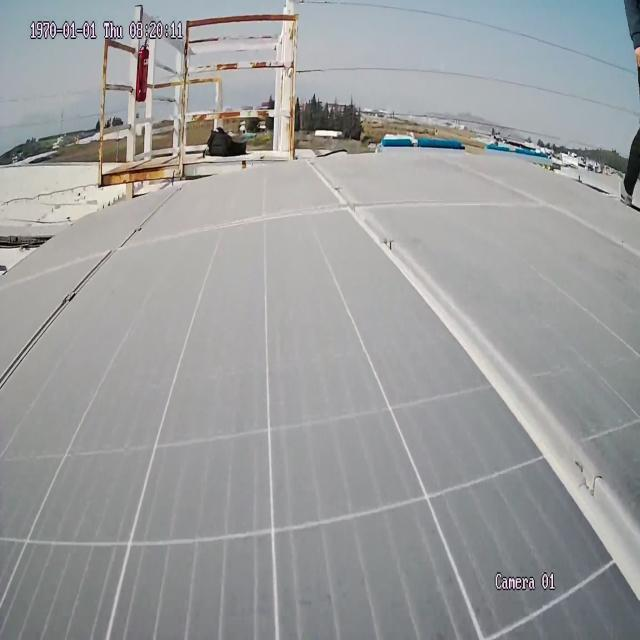interior panel: (302, 164, 640, 599), (0, 176, 216, 430)
outher panel: (0, 204, 52, 284)
